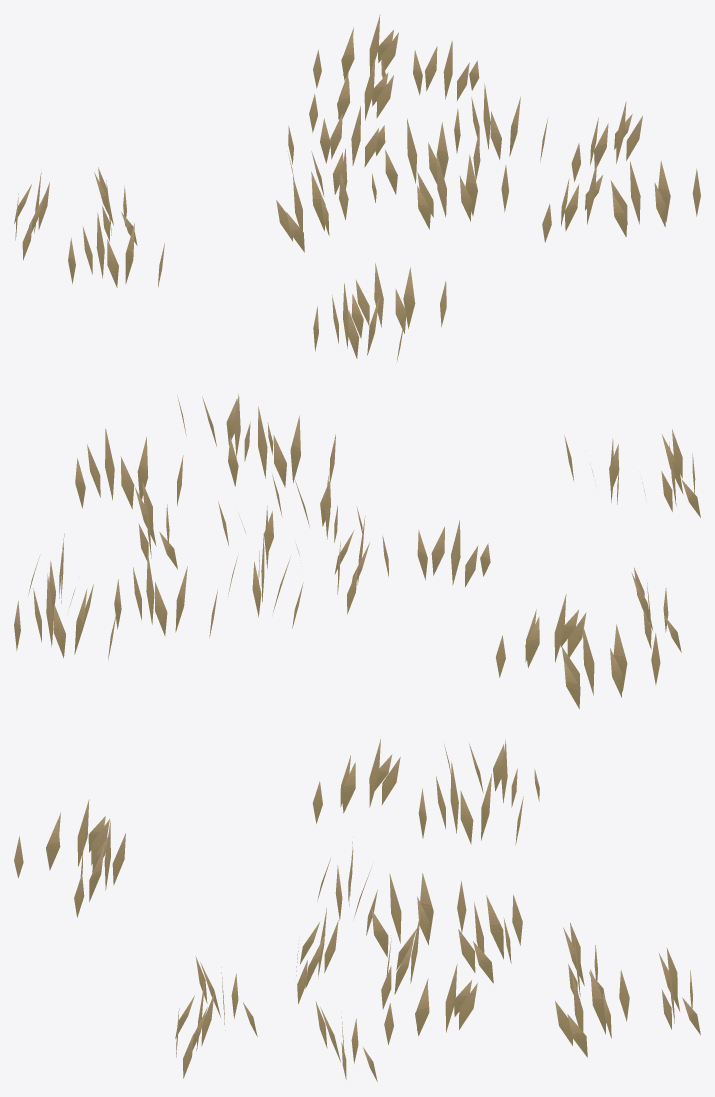
Rendered from plants_un_main_grass_set21_01.gltf.
3 renders of one model, top to bottom at view 1: azimuth 30°, elevation 25°; view 2: azimuth 150°, elevation 25°; view 3: azimuth 270°, elevation 25°, orthographic. The views are drawn at different scales.
Parts seen in each view (by area): view 1: plants_un_main_grass_set21_01_mesh_shape:plants_un_main_gras; view 2: plants_un_main_grass_set21_01_mesh_shape:plants_un_main_gras; view 3: plants_un_main_grass_set21_01_mesh_shape:plants_un_main_gras.
Boxes of the visible parts, left/top/right/bottom form: plants_un_main_grass_set21_01_mesh_shape:plants_un_main_gras: left=14, top=14, right=700, bottom=362; plants_un_main_grass_set21_01_mesh_shape:plants_un_main_gras: left=14, top=393, right=700, bottom=708; plants_un_main_grass_set21_01_mesh_shape:plants_un_main_gras: left=14, top=739, right=700, bottom=1081.
Size of what is drawn, in the model's own units: 3.78 by 0.4184 by 3.6.
Materials: 1 (1 with a texture image).
